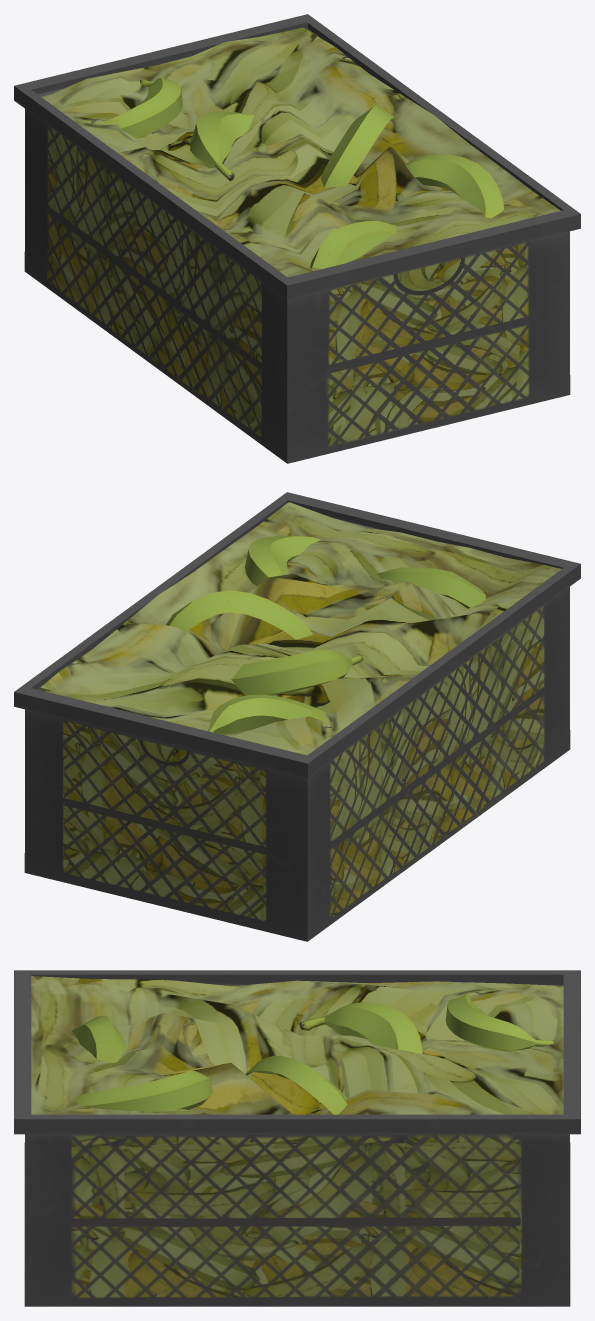
Rendered from caja de platanos.fbx.
3 views of the same model, one above another, from view 1: azimuth 30°, elevation 25°; view 2: azimuth 150°, elevation 25°; view 3: azimuth 270°, elevation 25° (orthographic). The views are drawn at different scales.
Visible parts, largest first — view 1: caja de platanos, plano platanos, Platain.004, Platain.005, Platain.001, Platain.003, Platain.002; view 2: caja de platanos, plano platanos, Platain.001, Platain.005, Platain.003, Platain.004, Platain.002; view 3: caja de platanos, plano platanos, Platain.004, Platain.001, Platain.003, Platain.005, Platain.002.
Part boxes in pixels (<box>): caja de platanos: <box>14,14,580,463</box>; plano platanos: <box>41,27,560,277</box>; Platain.004: <box>406,154,503,218</box>; Platain.005: <box>320,105,395,187</box>; Platain.001: <box>190,111,254,180</box>; Platain.003: <box>101,78,182,138</box>; Platain.002: <box>310,221,396,269</box>; caja de platanos: <box>14,492,580,941</box>; plano platanos: <box>38,502,561,755</box>; Platain.001: <box>231,649,363,695</box>; Platain.005: <box>166,590,312,639</box>; Platain.003: <box>208,694,328,733</box>; Platain.004: <box>244,535,321,586</box>; Platain.002: <box>377,567,485,608</box>; caja de platanos: <box>14,970,580,1306</box>; plano platanos: <box>31,976,563,1114</box>; Platain.004: <box>75,1071,212,1111</box>; Platain.001: <box>299,1002,422,1053</box>; Platain.003: <box>445,994,554,1050</box>; Platain.005: <box>245,1056,347,1114</box>; Platain.002: <box>72,1015,127,1062</box>.
Size of the model in its own units: 46.98 by 31.04 by 75.6.
